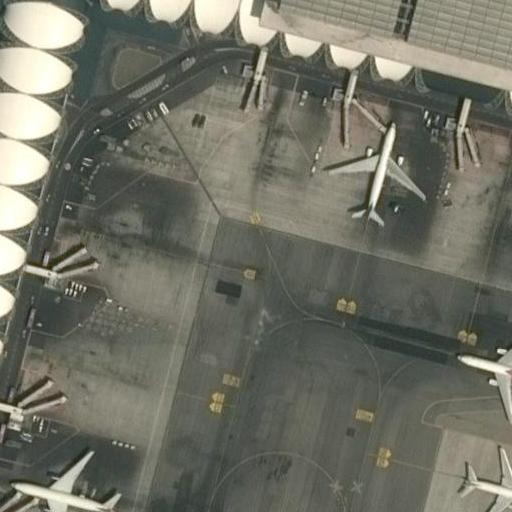Aircraft: (331, 116, 428, 229), (7, 443, 125, 512), (455, 315, 512, 422), (458, 445, 512, 512)
